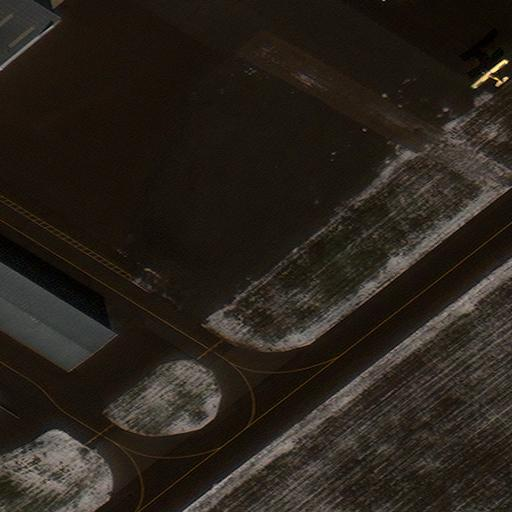Small Civil Transport: (469, 58, 504, 86)
